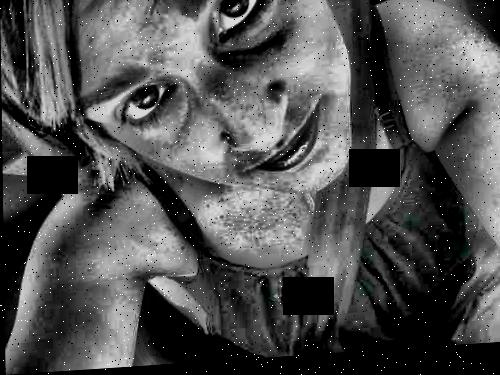seatbelt: (278, 4, 410, 331)
